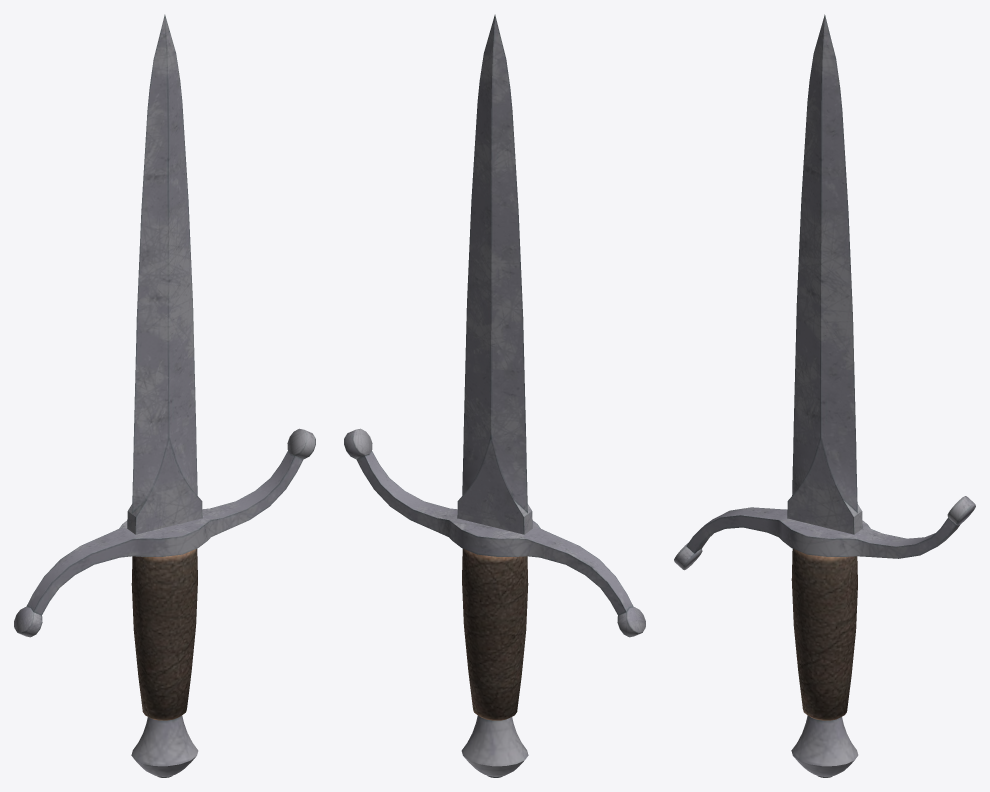
Rendered from medieval-dagger.glb.
3 views of the same model, side by side, from view 1: azimuth 30°, elevation 25°; view 2: azimuth 150°, elevation 25°; view 3: azimuth 330°, elevation 25° (orthographic).
Parts seen in each view (by area): view 1: Dagger; view 2: Dagger; view 3: Dagger.
Boxes of the visible parts, <box> form: Dagger: <box>14,14,315,777</box>; Dagger: <box>344,14,645,777</box>; Dagger: <box>674,14,975,777</box>.
Bounding box in the file's own units: 0.4079 × 1 × 0.0845.
1 material, 1 textured.
